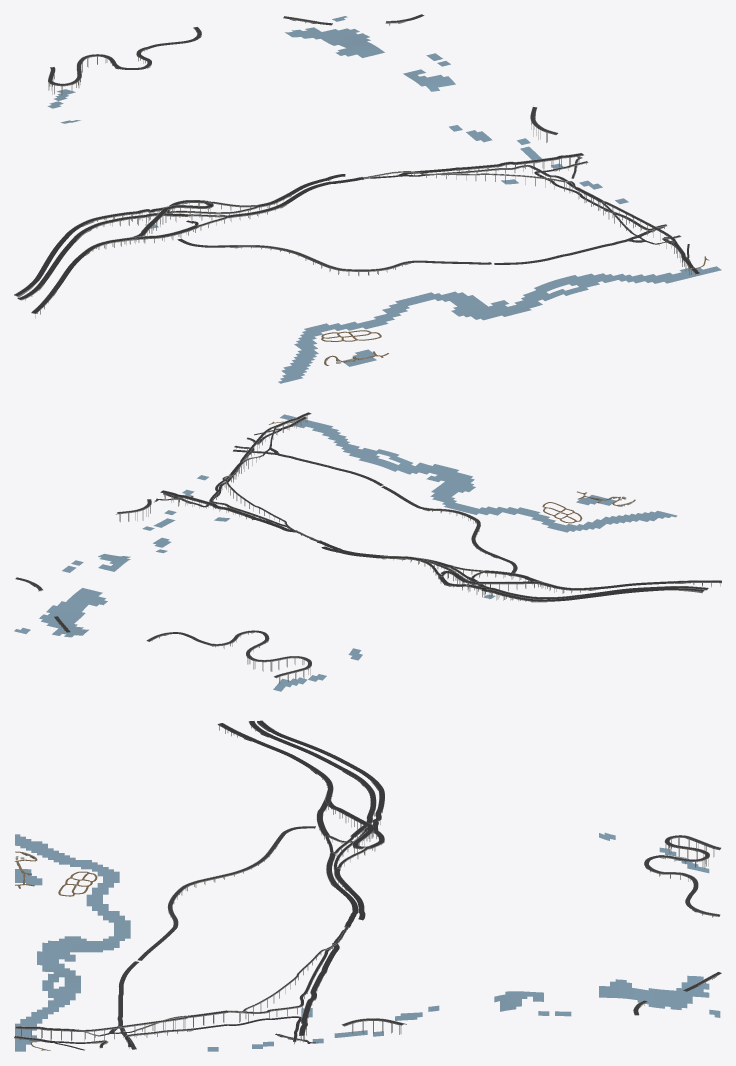
File: chunk_6_2.glb
3 renders of one model, top to bottom at view 1: azimuth 30°, elevation 25°; view 2: azimuth 150°, elevation 25°; view 3: azimuth 270°, elevation 25°, orthographic. The views are drawn at different scales.
Visible parts, largest first — view 1: Roads_6_2, Water_6_2, RoadSides_6_2; view 2: Water_6_2, Roads_6_2, RoadSides_6_2; view 3: Water_6_2, Roads_6_2, RoadSides_6_2.
Boxes of the visible parts, box(x1,y1,x2,y2) form: Roads_6_2: box(14, 14, 709, 365); Water_6_2: box(48, 16, 721, 383); RoadSides_6_2: box(14, 17, 699, 363); Water_6_2: box(14, 414, 676, 691); Roads_6_2: box(15, 412, 721, 677); RoadSides_6_2: box(30, 412, 721, 683); Water_6_2: box(15, 831, 720, 1051); Roads_6_2: box(14, 720, 721, 1050); RoadSides_6_2: box(14, 721, 721, 1048).
Bounding box in the file's own units: 2062 × 175 × 2056.
